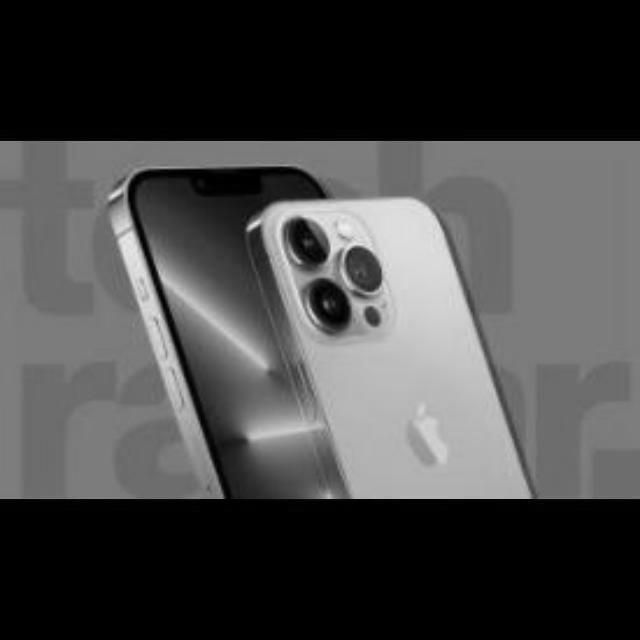fake: (94, 165, 626, 501)
